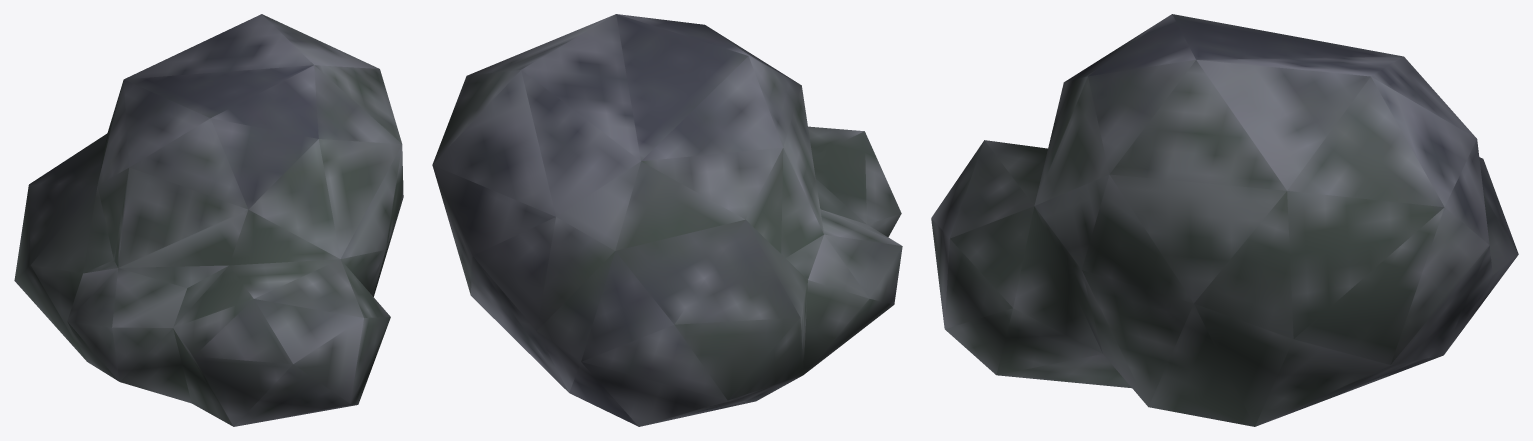
The model's file is Rock_09.fbx.
3 renders of one model, left to right at view 1: azimuth 30°, elevation 25°; view 2: azimuth 150°, elevation 25°; view 3: azimuth 270°, elevation 25°, orthographic. The views are drawn at different scales.
Visible parts, largest first — view 1: Rock_09; view 2: Rock_09; view 3: Rock_09.
Part boxes in pixels (bbox=[...]): Rock_09: bbox=[14, 14, 403, 426]; Rock_09: bbox=[432, 14, 902, 426]; Rock_09: bbox=[931, 14, 1518, 426].
Size of the model in its own units: 253 by 216 by 301.
Materials: 1 (1 with a texture image).
